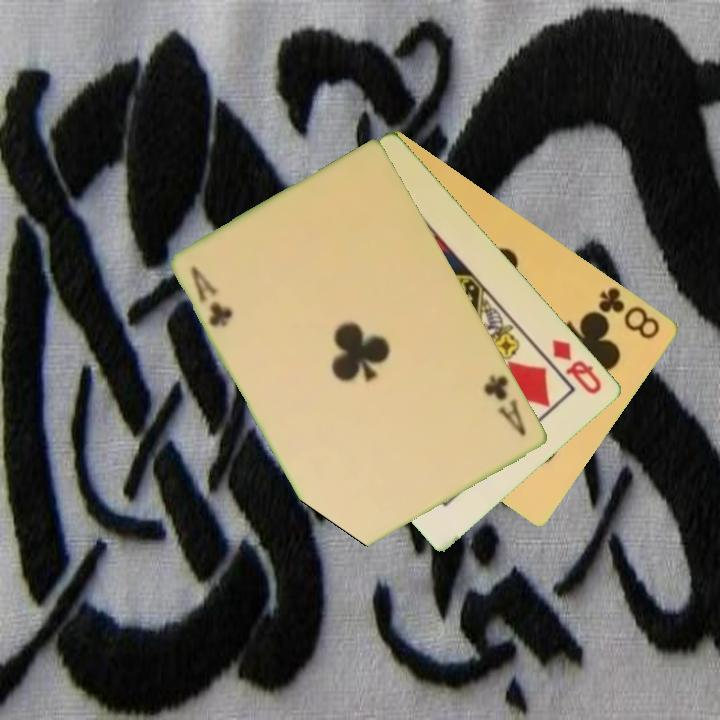8c: (595, 283, 664, 342)
Ac: (480, 371, 530, 439), (187, 262, 237, 330)
Qd: (549, 335, 606, 397)
